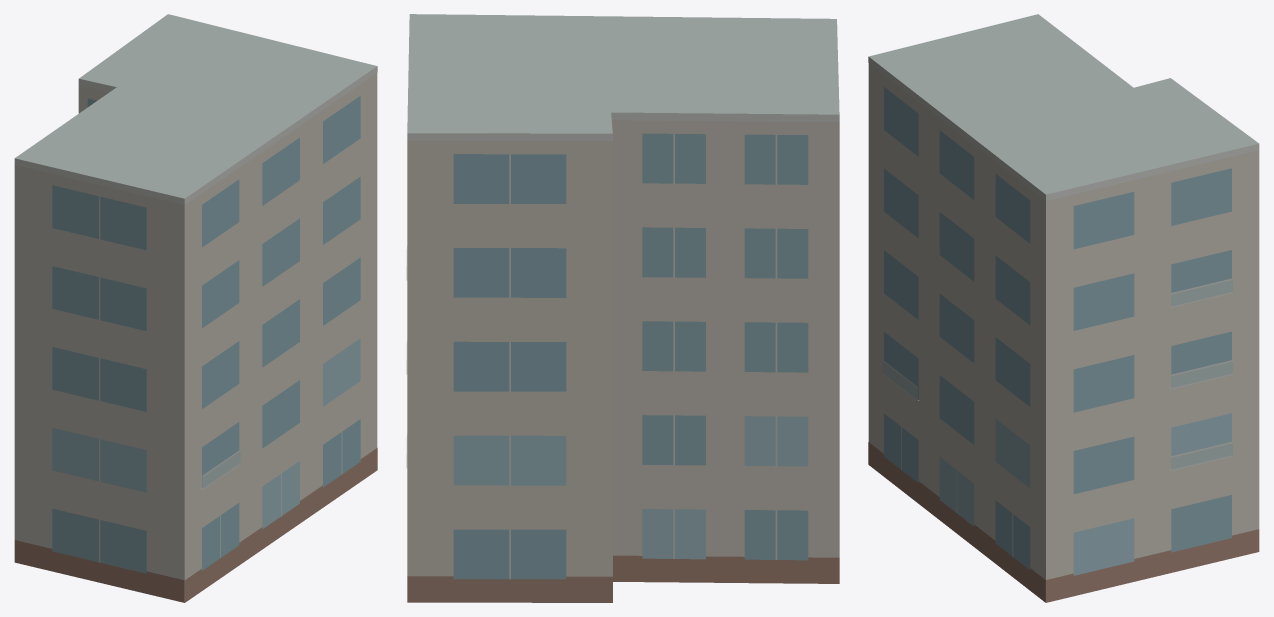
Rendered from survey-upis-32868561.glb.
3 renders of one model, left to right at view 1: azimuth 30°, elevation 25°; view 2: azimuth 150°, elevation 25°; view 3: azimuth 270°, elevation 25°, orthographic. The views are drawn at different scales.
Visible parts, largest first — view 1: survey-upis-32868561.tmp; view 2: survey-upis-32868561.tmp; view 3: survey-upis-32868561.tmp.
Part boxes in pixels (x1=…): survey-upis-32868561.tmp: x1=14, y1=14, x2=377, y2=602; survey-upis-32868561.tmp: x1=406, y1=14, x2=839, y2=602; survey-upis-32868561.tmp: x1=868, y1=14, x2=1259, y2=602.
Size of the model in its own units: 14.48 by 15.25 by 13.24.
